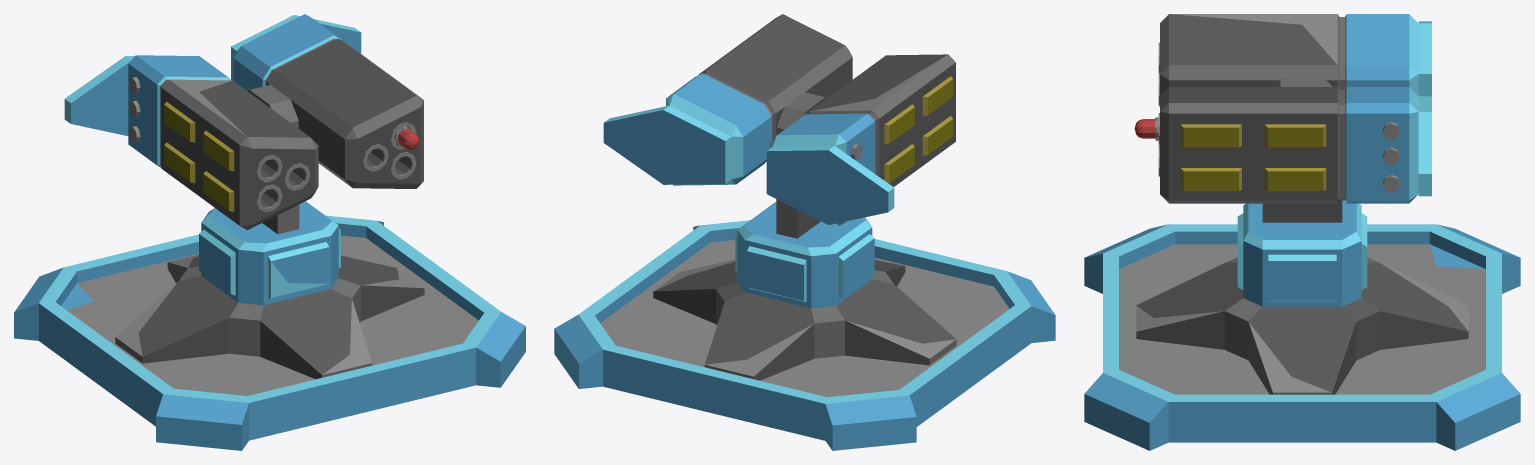
The model's file is tower_rocket_blue_2.fbx.
The picture shows the model from 3 angles, left to right: view 1: azimuth 30°, elevation 25°; view 2: azimuth 150°, elevation 25°; view 3: azimuth 270°, elevation 25°; orthographic projection. The views are drawn at different scales.
Parts seen in each view (by area): view 1: top_rocket_blue_2, tower_rocket_blue_2; view 2: top_rocket_blue_2, tower_rocket_blue_2; view 3: top_rocket_blue_2, tower_rocket_blue_2, rocket_blue_2.
Boxes of the visible parts, x1,y1,x2,y2 form: top_rocket_blue_2: (64,14,424,379); tower_rocket_blue_2: (14,215,525,450); top_rocket_blue_2: (603,14,956,380); tower_rocket_blue_2: (554,220,1055,450); top_rocket_blue_2: (1136,14,1468,394); tower_rocket_blue_2: (1084,224,1520,450); rocket_blue_2: (1134,117,1158,140).
Size of the model in its own units: 173 by 123 by 164.
